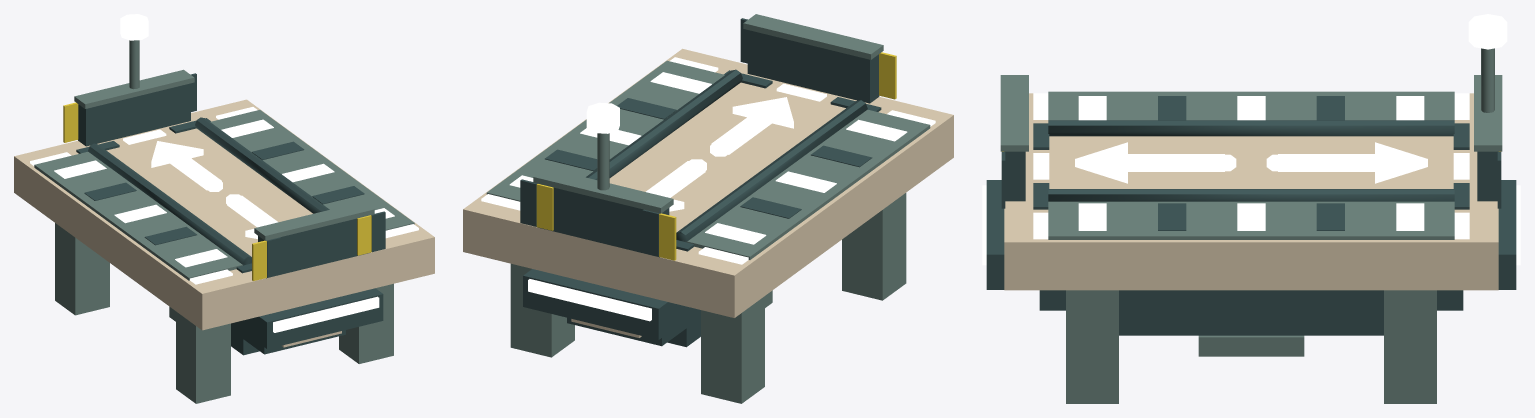
Rendered from Deck_Ferry_v4_2_lab2.glb.
3 renders of one model, left to right at view 1: azimuth 30°, elevation 25°; view 2: azimuth 150°, elevation 25°; view 3: azimuth 270°, elevation 25°, orthographic. The views are drawn at different scales.
Parts seen in each view (by area): view 1: Deck_Ferry_v4_2; view 2: Deck_Ferry_v4_2; view 3: Deck_Ferry_v4_2.
Boxes of the visible parts, x1,y1,x2,y2 form: Deck_Ferry_v4_2: [14, 14, 434, 403]; Deck_Ferry_v4_2: [463, 14, 953, 403]; Deck_Ferry_v4_2: [982, 14, 1520, 403].
Bounding box in the file's own units: 2 × 1.99 × 3.05.
